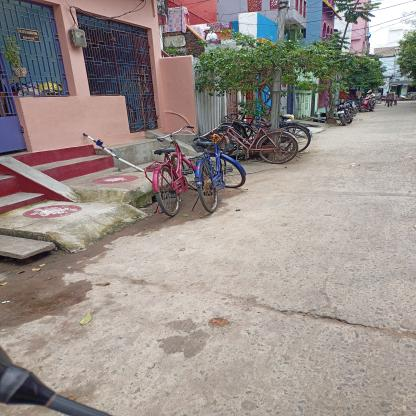bike: (129, 125, 191, 222), (191, 135, 241, 220), (218, 124, 301, 163)
